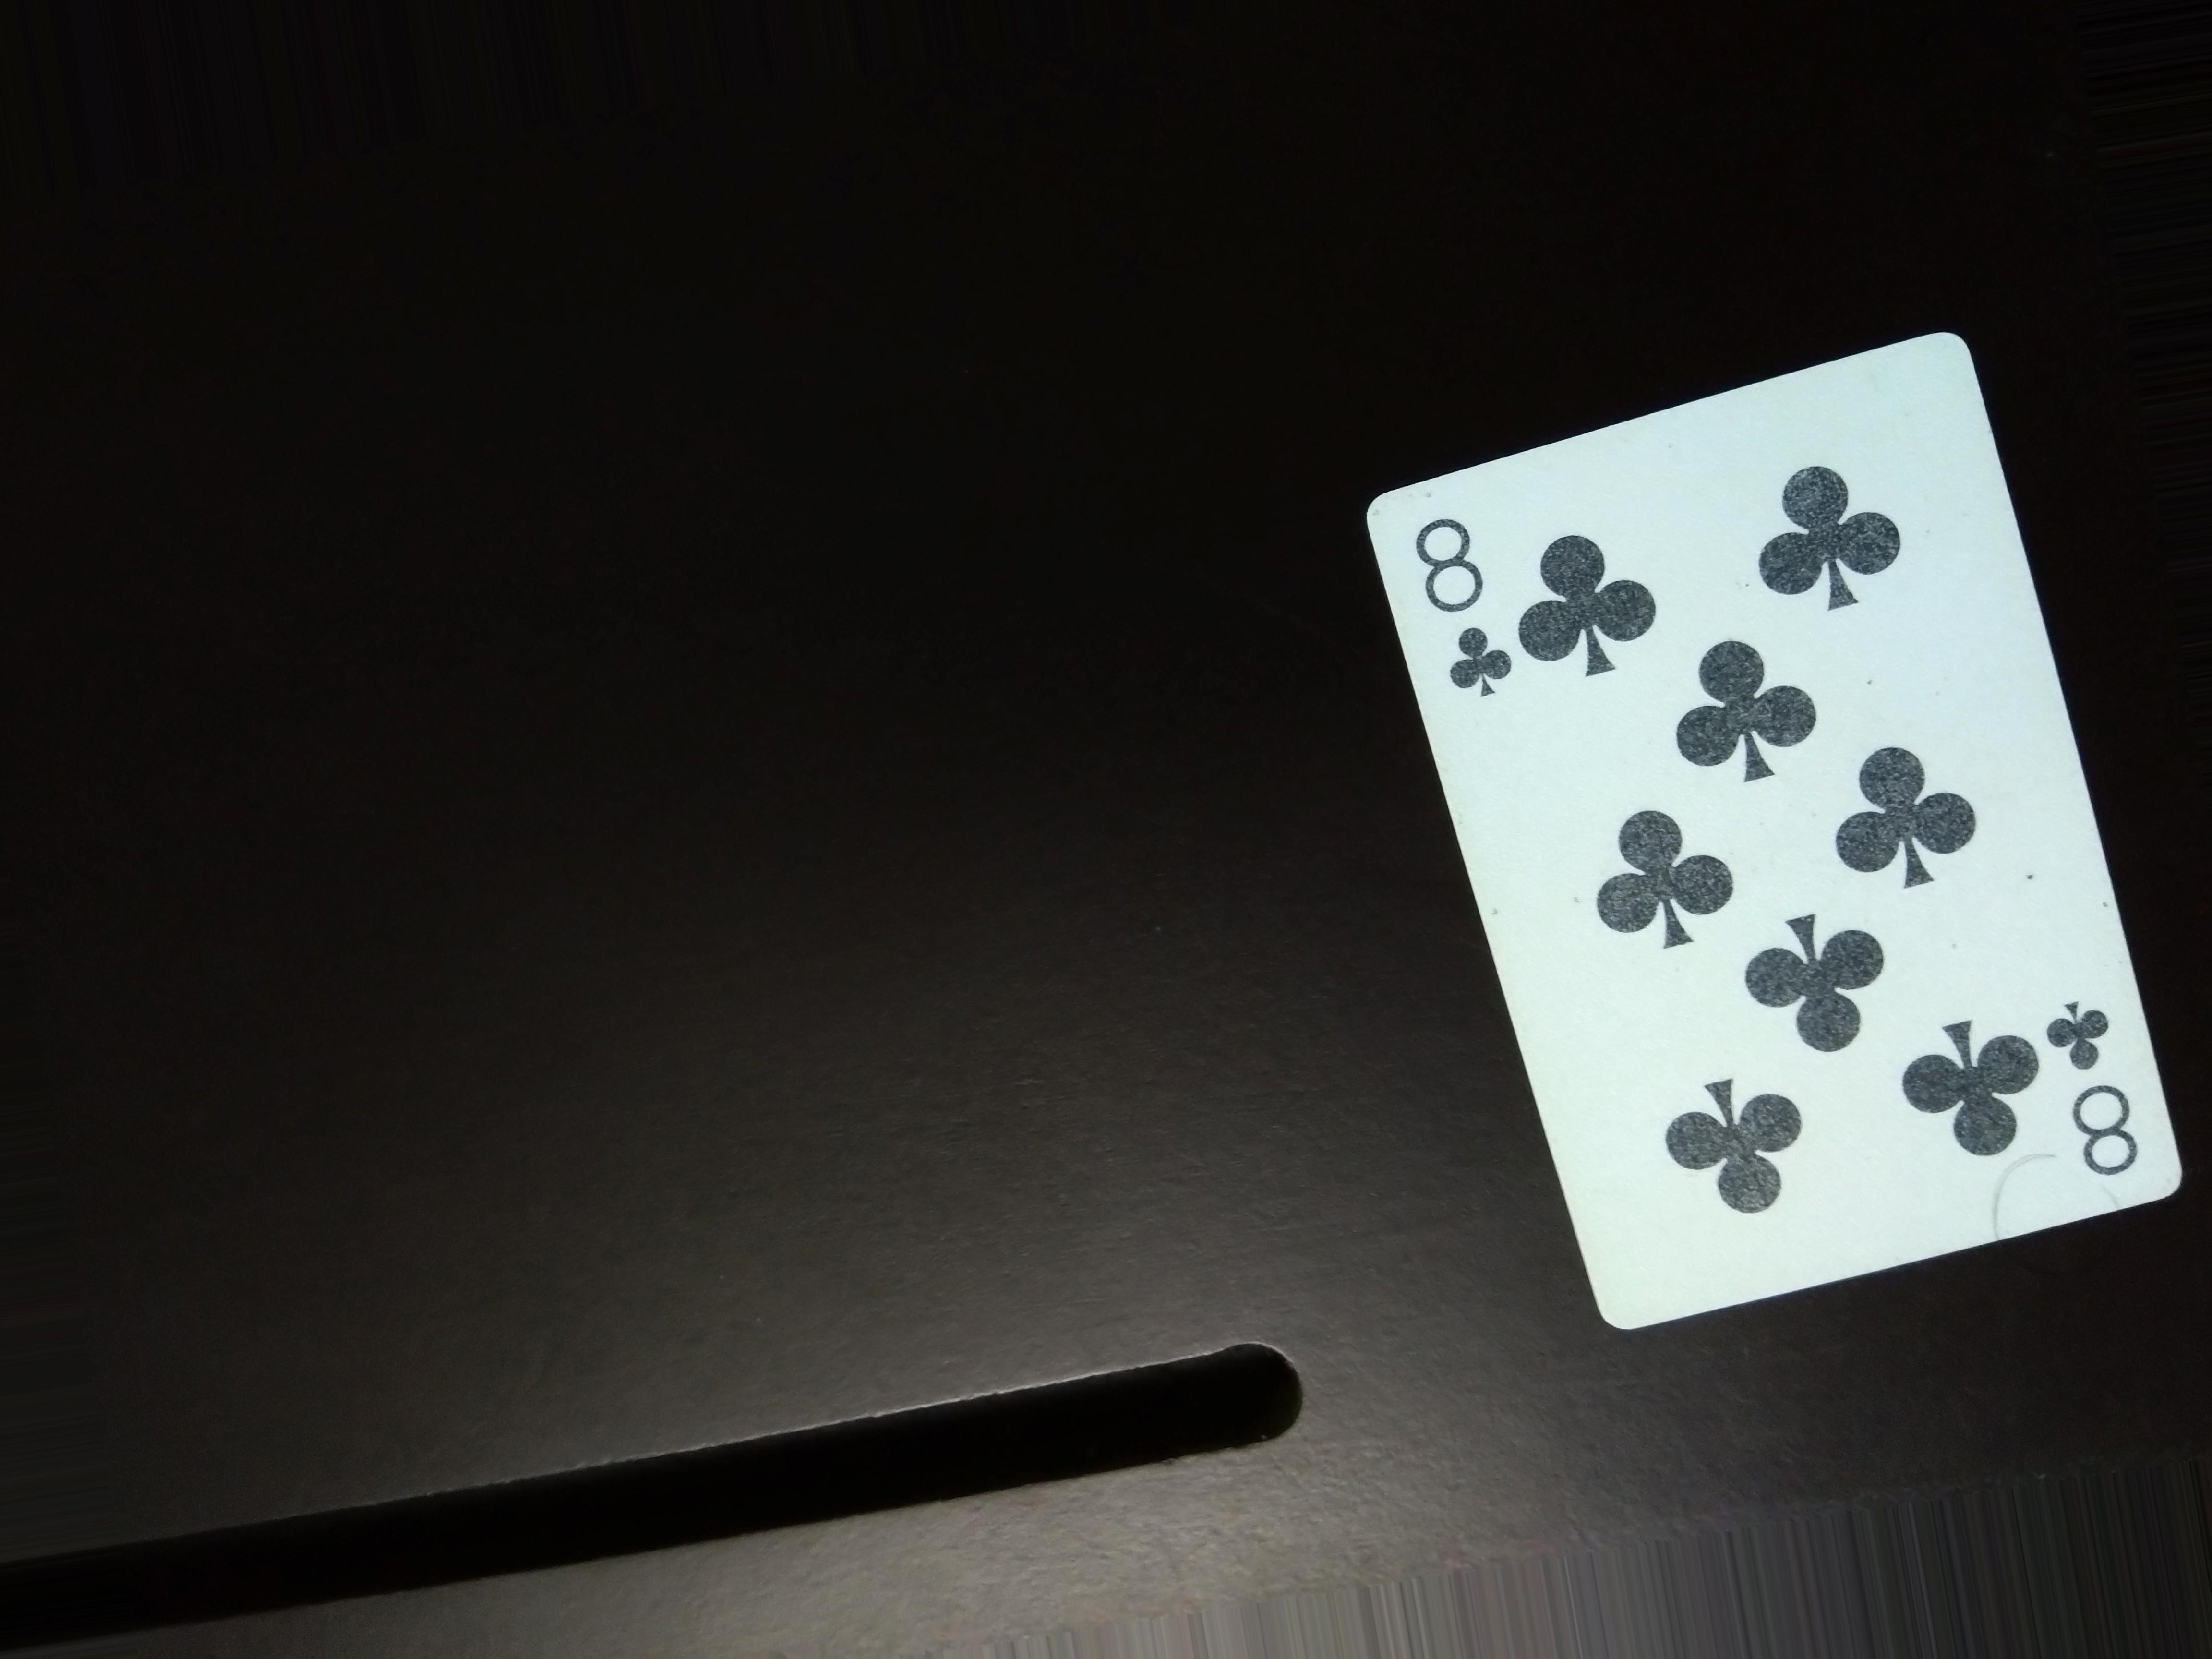8C: (2034, 974, 2153, 1211)
